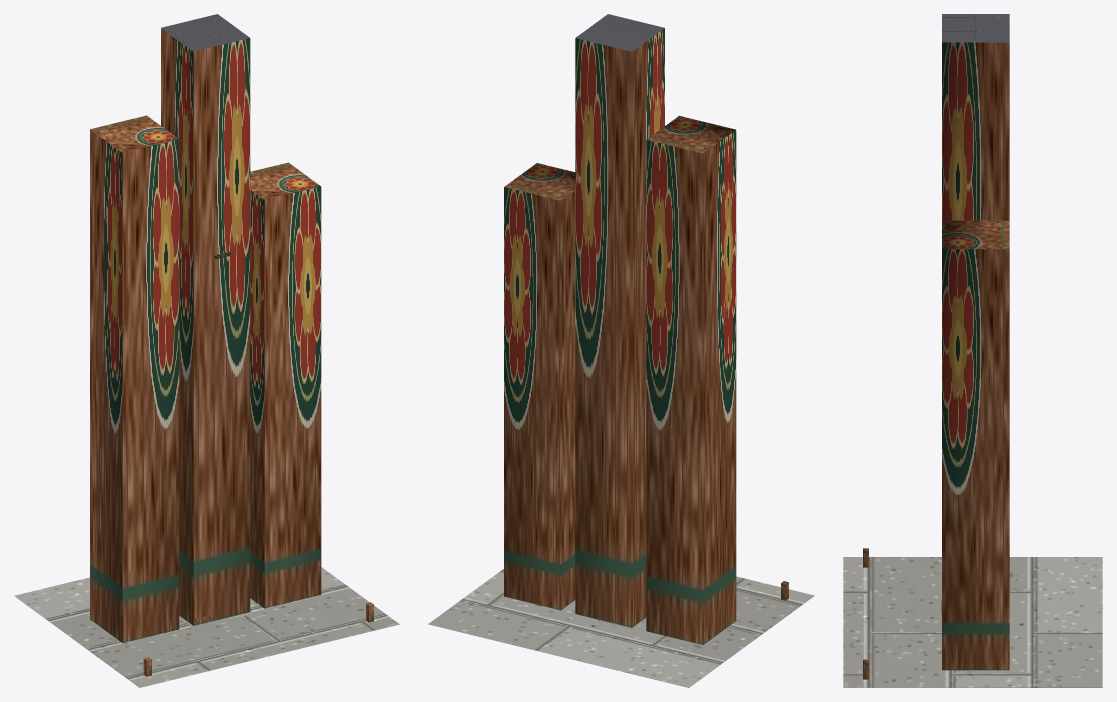
3 renders of one model, left to right at view 1: azimuth 30°, elevation 25°; view 2: azimuth 150°, elevation 25°; view 3: azimuth 270°, elevation 25°, orthographic. The views are drawn at different scales.
Parts seen in each view (by area): view 1: 11680_01_06243_022_02_L2__body, 11680_01_06243_022_01_L2__base, 11680_01_06243_022_03_L2__roof; view 2: 11680_01_06243_022_02_L2__body, 11680_01_06243_022_01_L2__base, 11680_01_06243_022_03_L2__roof; view 3: 11680_01_06243_022_02_L2__body, 11680_01_06243_022_01_L2__base, 11680_01_06243_022_03_L2__roof.
Part boxes in pixels (x1,y1,x2,y2): 11680_01_06243_022_02_L2__body: (90, 18, 321, 642); 11680_01_06243_022_01_L2__base: (14, 567, 399, 687); 11680_01_06243_022_03_L2__roof: (161, 14, 249, 51); 11680_01_06243_022_02_L2__body: (504, 16, 736, 644); 11680_01_06243_022_01_L2__base: (428, 569, 814, 687); 11680_01_06243_022_03_L2__roof: (576, 14, 664, 51); 11680_01_06243_022_02_L2__body: (942, 14, 1009, 670); 11680_01_06243_022_01_L2__base: (843, 557, 1102, 687); 11680_01_06243_022_03_L2__roof: (942, 14, 1009, 42).
Size of the model in its own units: 110 by 233 by 92.
5 materials, 5 textured.
